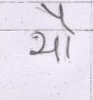ai_matra: (41, 3, 74, 29)
